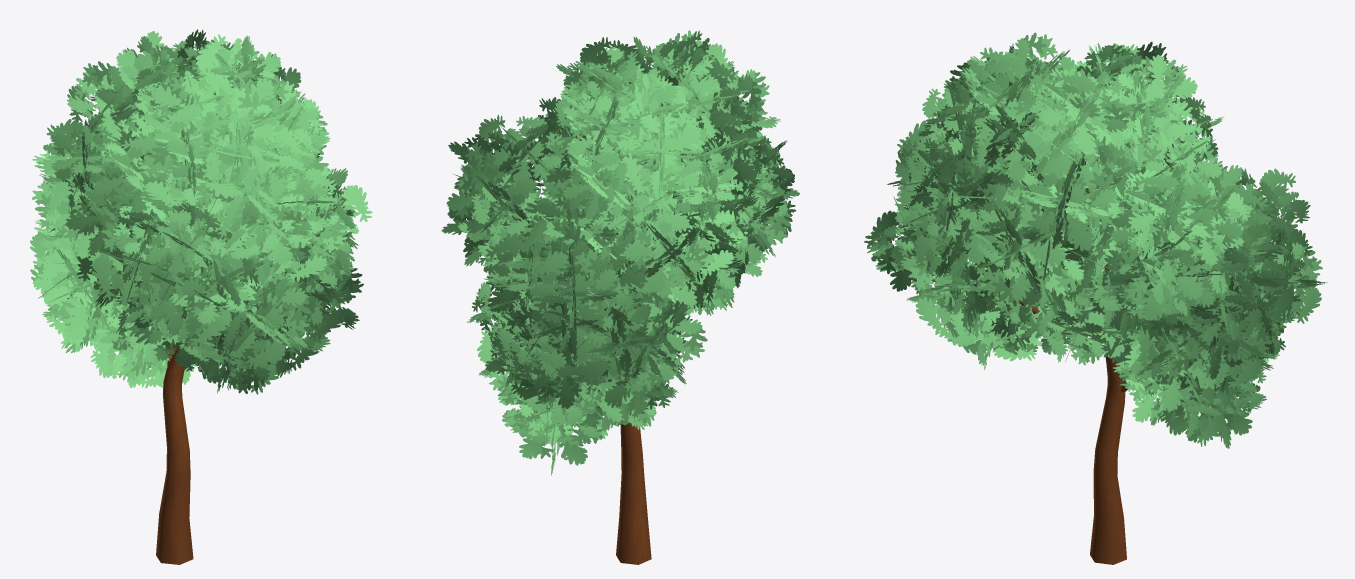
File: STOak3.glb
3 views of the same model, side by side, from view 1: azimuth 30°, elevation 25°; view 2: azimuth 150°, elevation 25°; view 3: azimuth 270°, elevation 25° (orthographic). The views are drawn at different scales.
Parts seen in each view (by area): view 1: Leaf.061; view 2: Leaf.061; view 3: Leaf.061.
Boxes of the visible parts, x1,y1,x2,y2 form: Leaf.061: (30,29,372,564); Leaf.061: (441,30,799,564); Leaf.061: (864,32,1327,564).
Bounding box in the file's own units: 12.04 × 19.41 × 16.27.
Materials: 2 (2 with a texture image).
